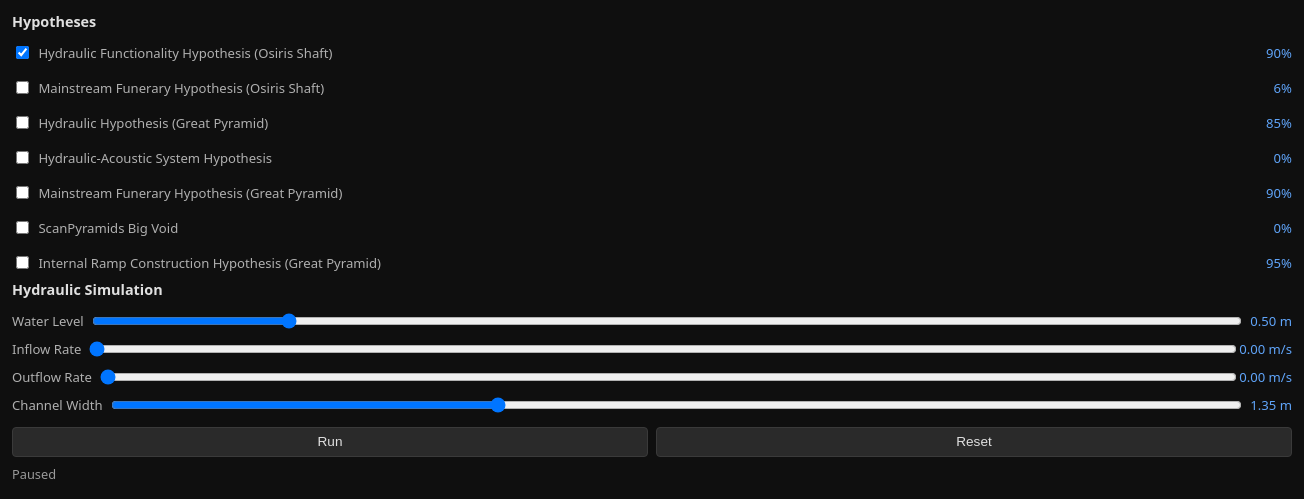
Test: SimulationPanel › toggles simulation running state
The image size is (1304, 499).
Click the button "Run" at (330, 442), box x1=12 y1=427 x2=648 y2=457
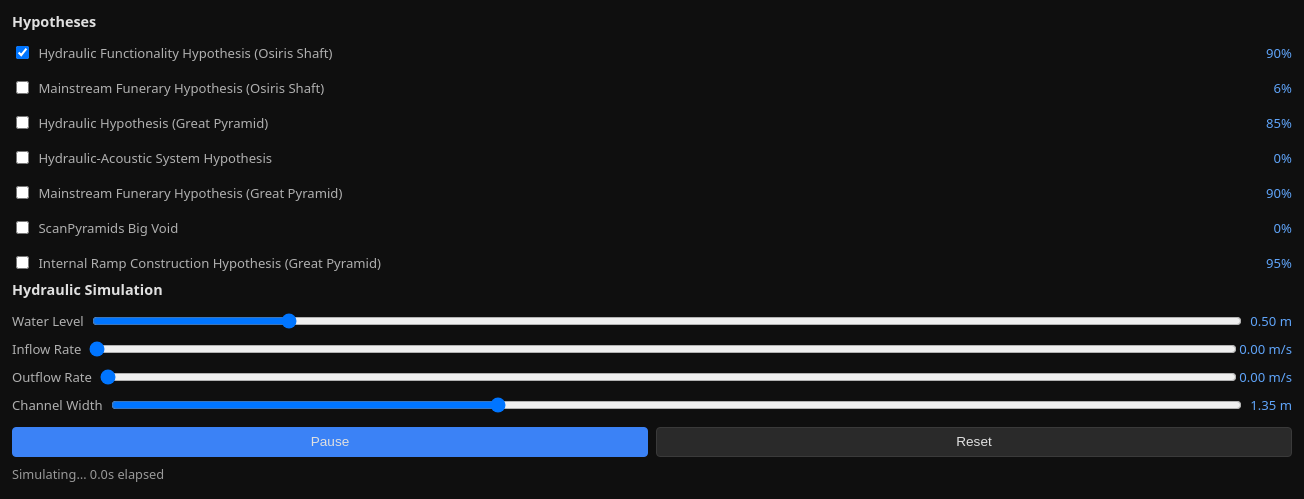
Result: the button "Pause" is shown at x1=12 y1=427 x2=648 y2=457
